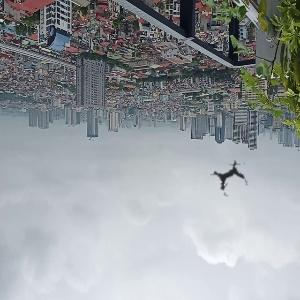drone: (197, 141, 267, 211)
